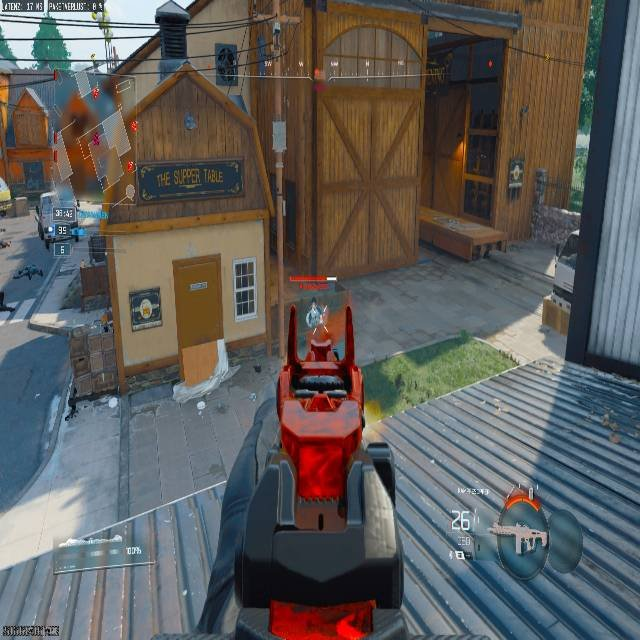player: (217, 320, 414, 639), (216, 46, 236, 87), (306, 300, 324, 329)
